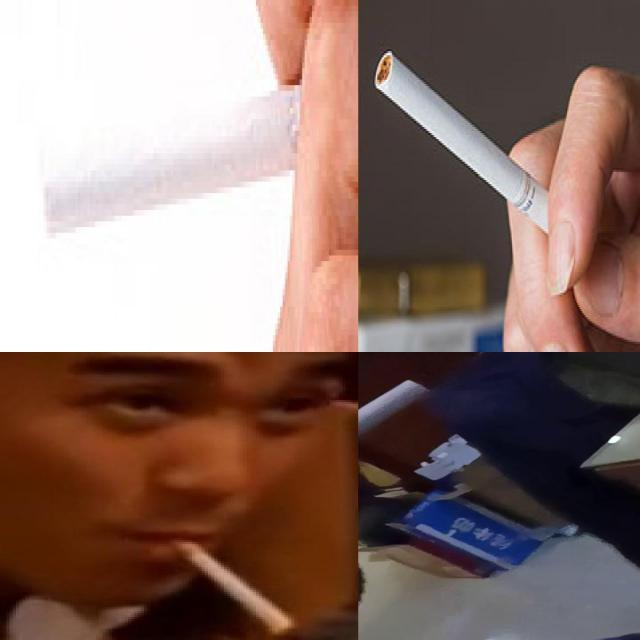smoking: (42, 56, 358, 240), (373, 49, 583, 247), (166, 536, 298, 634), (358, 378, 436, 510)
